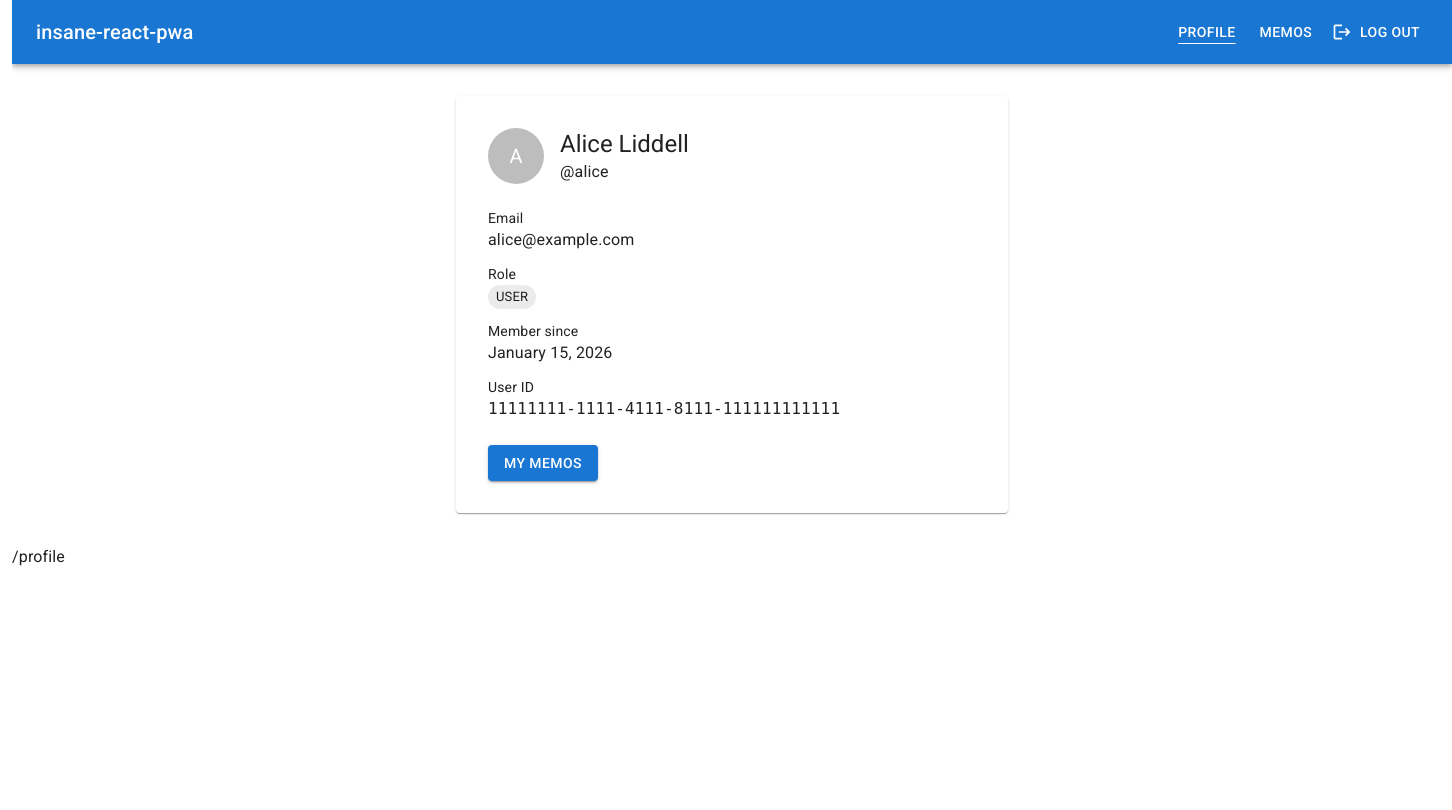
Test: AppLayout › logs out and returns to the home screen
Expected: the heading "Alice Liddell" is shown, [560,128,689,160]
Click the button "Log out": coordinates (1378, 32) [1328,14,1428,50]
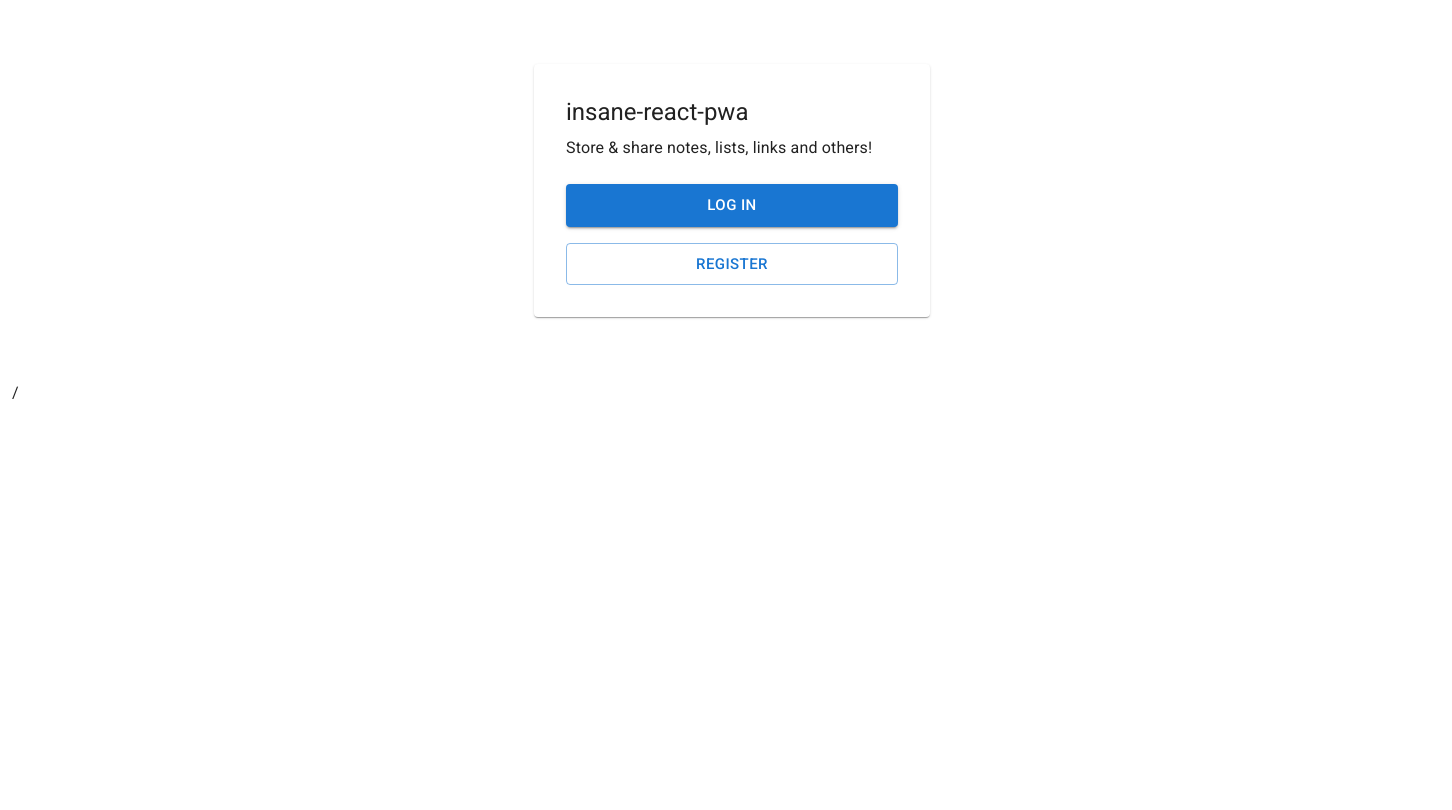
Expected: the link "Register" is shown, [566,243,898,285]
Expected: the text with test id "location" reads "/", [12,383,19,402]
